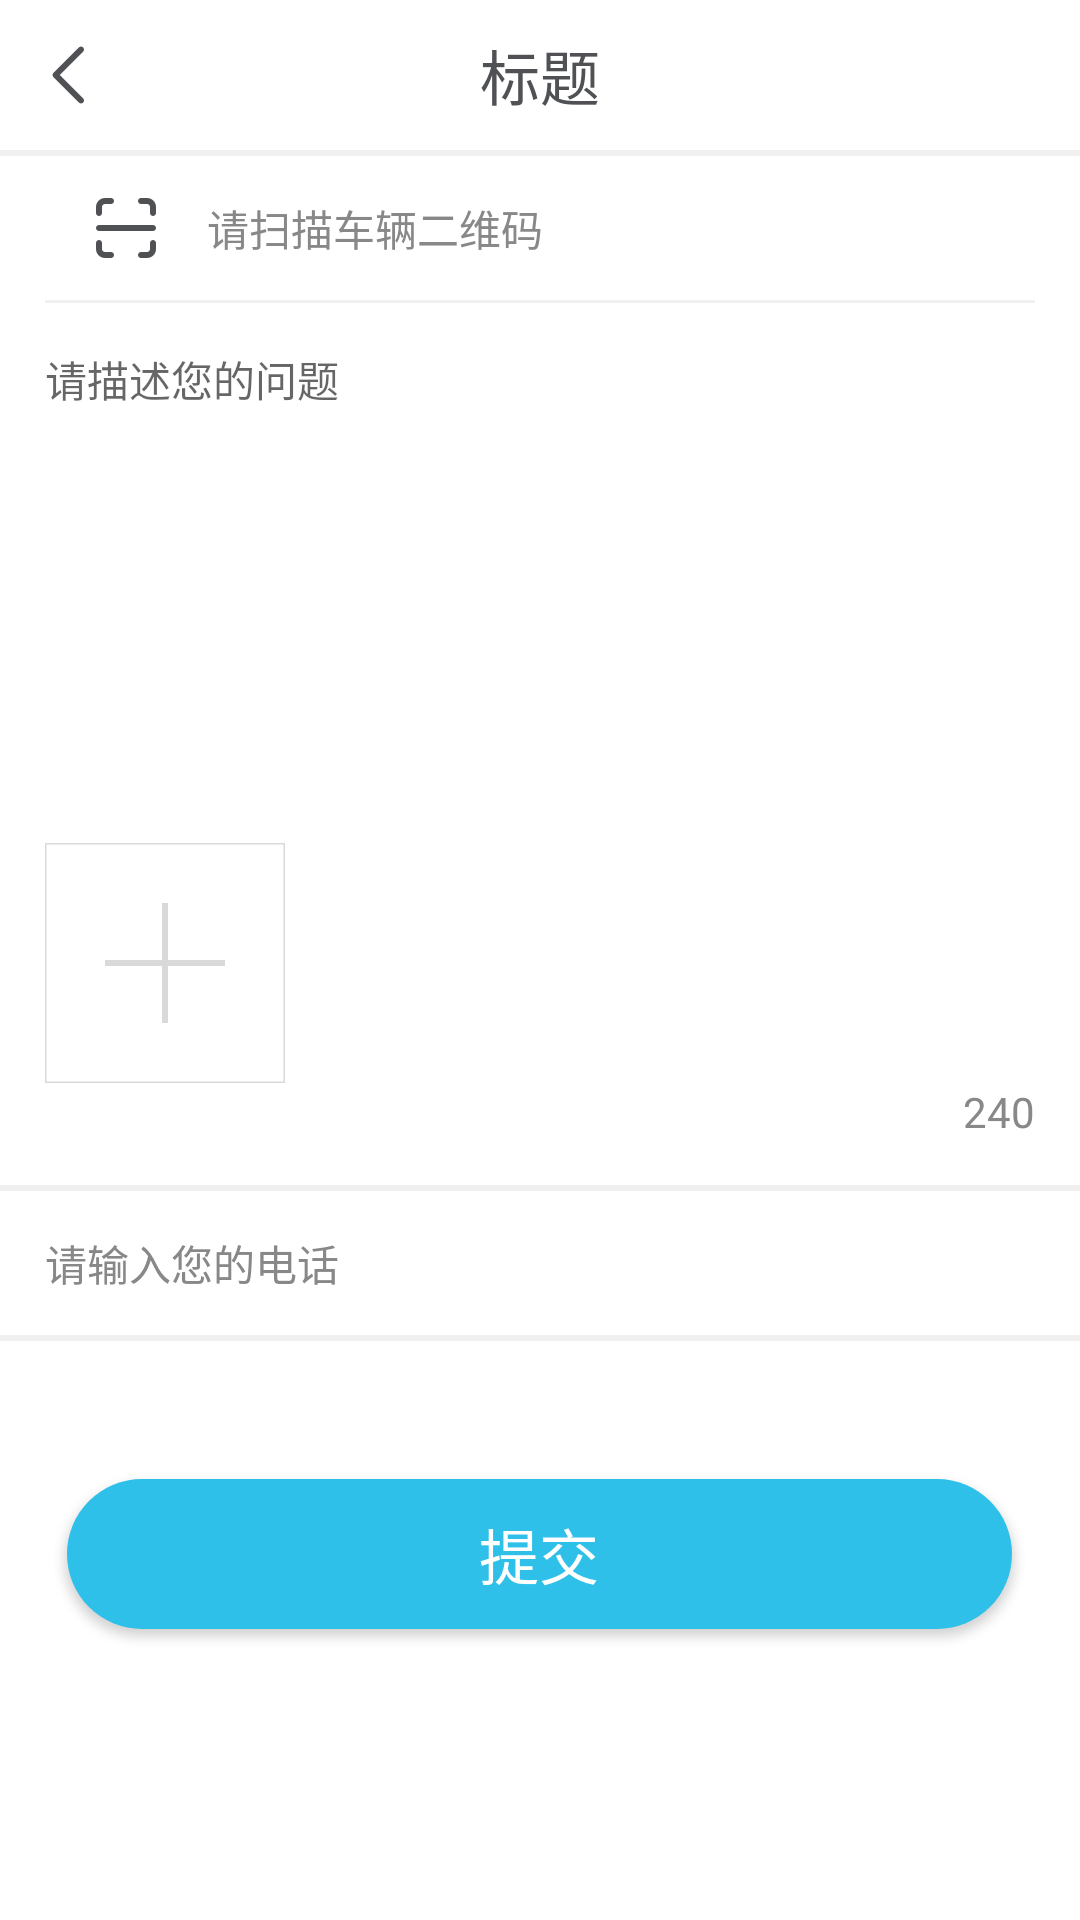

Icon click points for this 1080 x 1920 phone screenshot, format (x,y):
add photo: (165,963)
back: (68,75)
